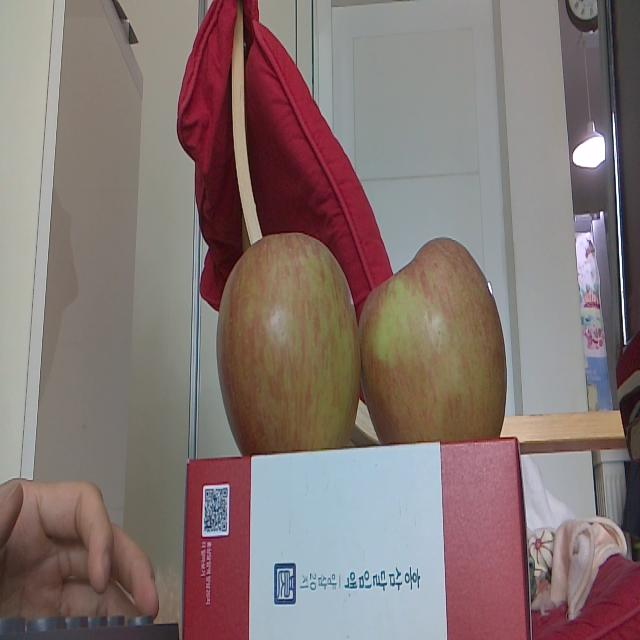apple: (218, 232, 360, 457), (363, 235, 507, 444)
